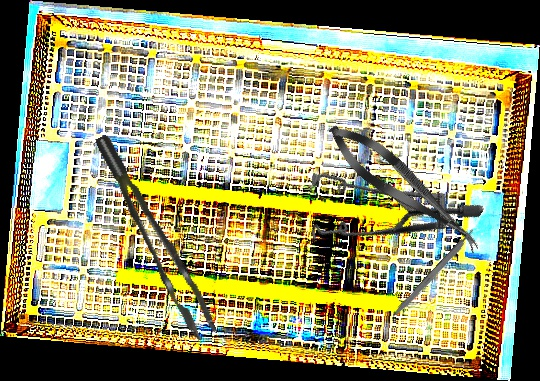Micro Scissor: (319, 113, 491, 263)
Scalpel Handle: (390, 228, 478, 320)
Speculum: (282, 115, 486, 311)
Tissue Forceps: (95, 123, 218, 350)
